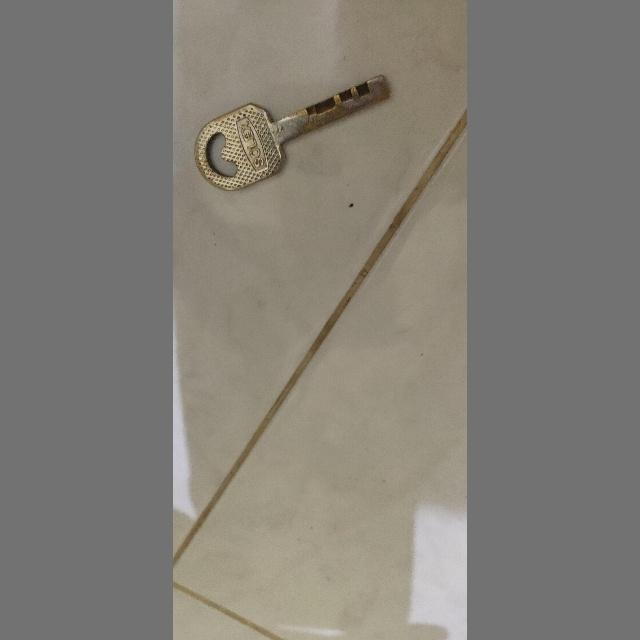Keys: (190, 71, 390, 197)
